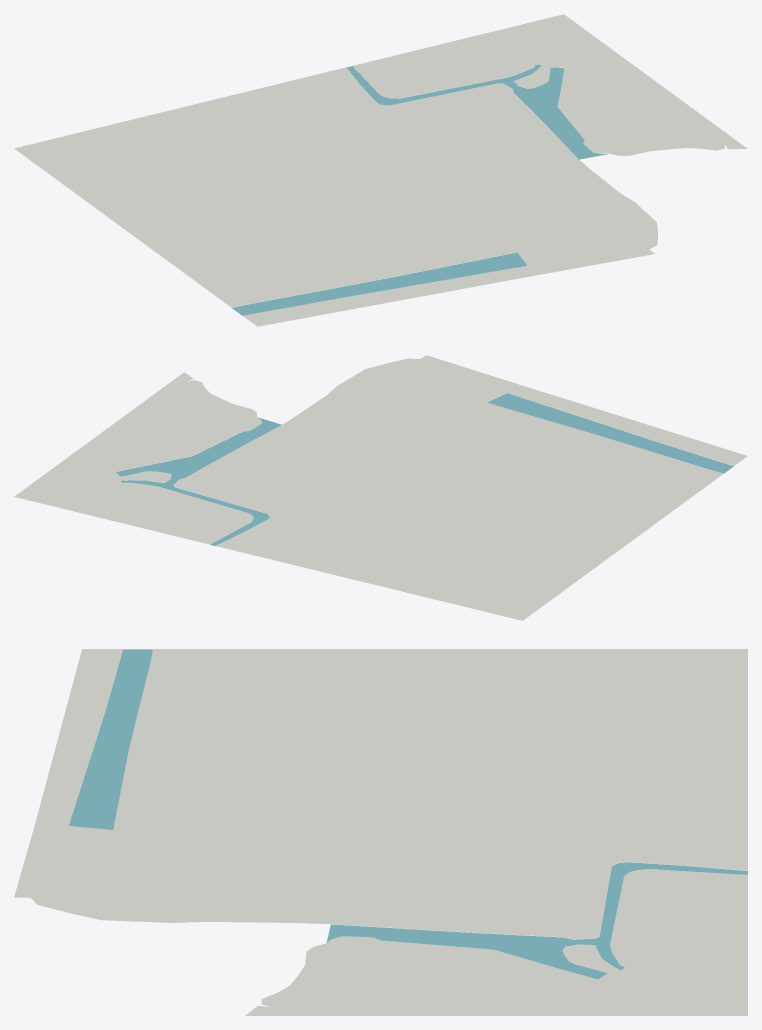
3 renders of one model, top to bottom at view 1: azimuth 30°, elevation 25°; view 2: azimuth 150°, elevation 25°; view 3: azimuth 270°, elevation 25°, orthographic. The views are drawn at different scales.
Visible parts, largest first — view 1: city; view 2: city; view 3: city.
Part boxes in pixels (left/top/right/bottom): city: left=14, top=14, right=747, bottom=326; city: left=14, top=355, right=747, bottom=620; city: left=14, top=649, right=747, bottom=1015.
Bounding box in the file's own units: 500 × 0.18 × 423.
